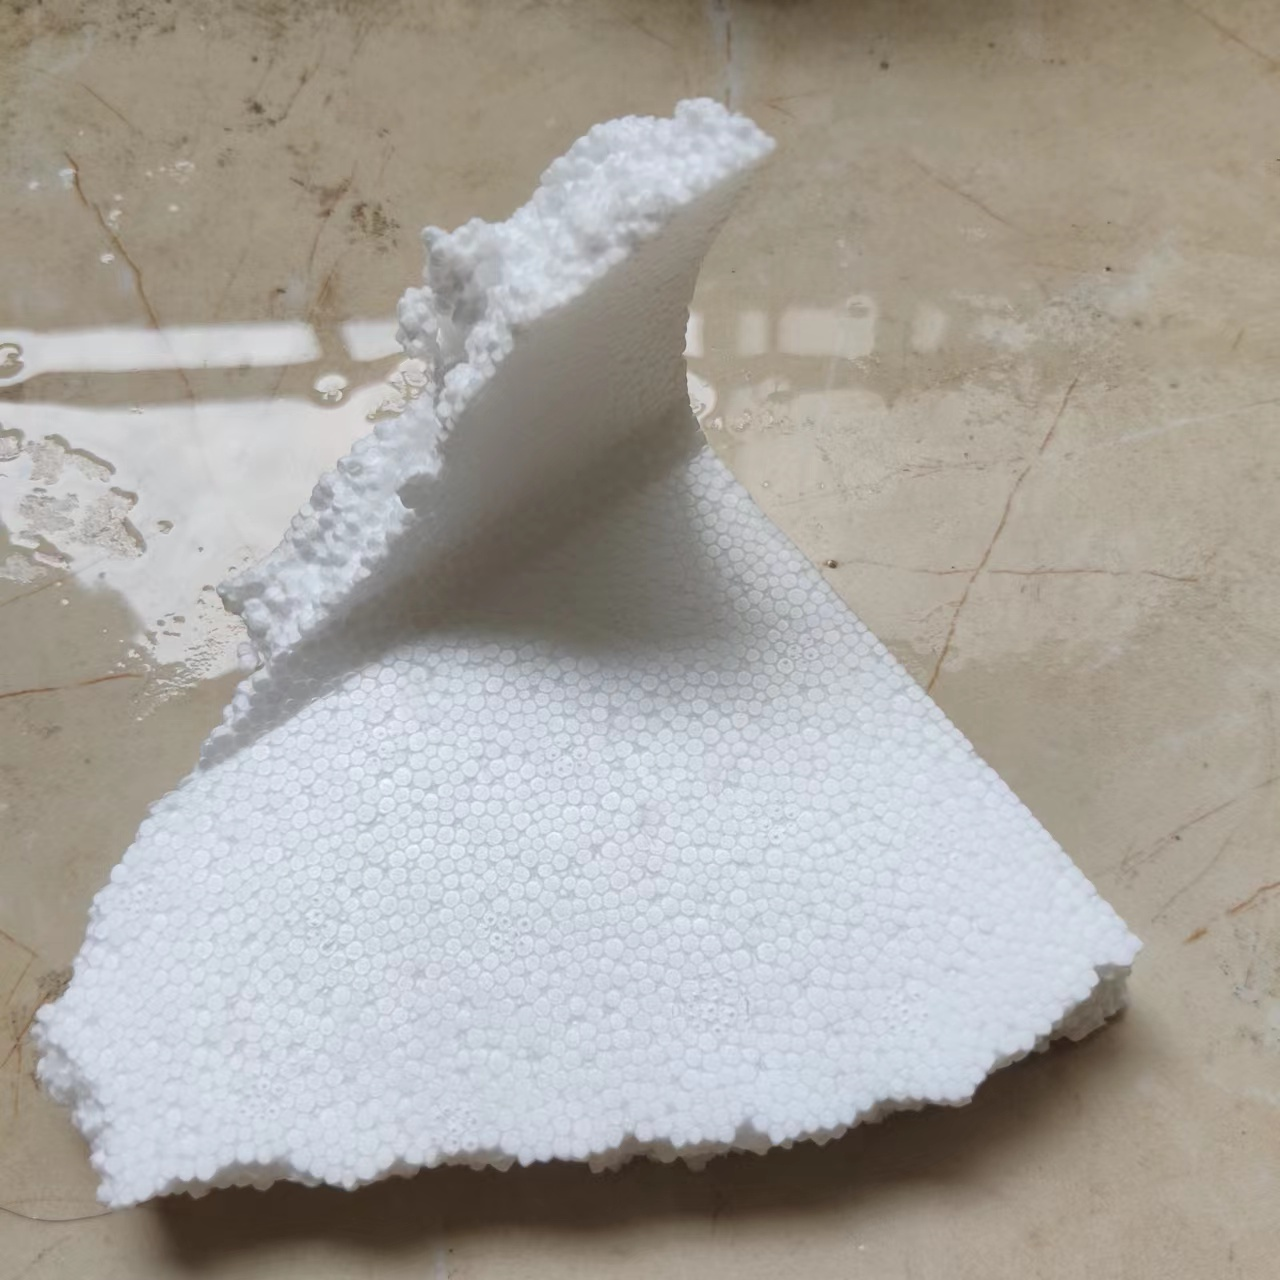5/可回收垃圾/泡沫: (26, 93, 1145, 1214)
